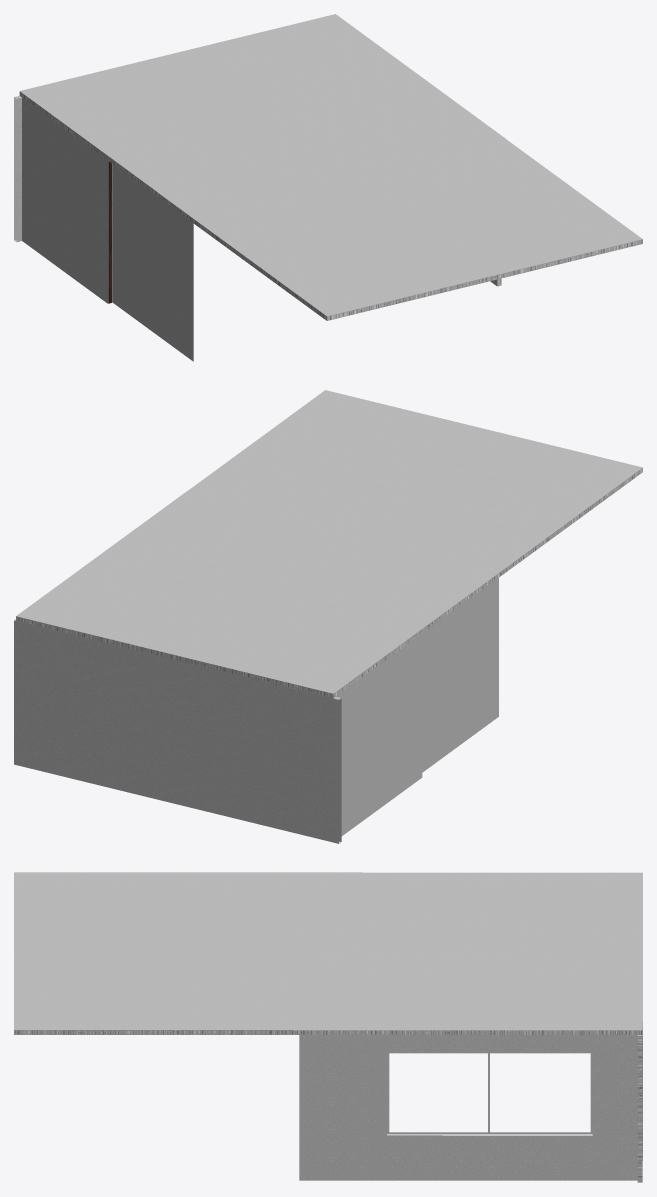
File: paredes.glb
3 renders of one model, top to bottom at view 1: azimuth 30°, elevation 25°; view 2: azimuth 150°, elevation 25°; view 3: azimuth 270°, elevation 25°, orthographic. The views are drawn at different scales.
Parts seen in each view (by area): view 1: Suelo_TileTexture_0.004, Pared6_BrownWoodTexture_0.003, Pared6_BrownWoodTexture_0.004; view 2: Suelo_TileTexture_0.004, Pared6_BrownWoodTexture_0.004, Pared6_BrownWoodTexture_0.003; view 3: Suelo_TileTexture_0.004, Pared6_BrownWoodTexture_0.066, Pared6_BrownWoodTexture_0.004.
Boxes of the visible parts, box(x1,y1,x2,y2) form: Suelo_TileTexture_0.004: box(19, 14, 642, 320); Pared6_BrownWoodTexture_0.003: box(22, 98, 193, 361); Pared6_BrownWoodTexture_0.004: box(14, 96, 21, 242); Suelo_TileTexture_0.004: box(16, 390, 642, 698); Pared6_BrownWoodTexture_0.004: box(14, 619, 341, 843); Pared6_BrownWoodTexture_0.003: box(336, 578, 498, 835); Suelo_TileTexture_0.004: box(14, 872, 642, 1034); Pared6_BrownWoodTexture_0.066: box(299, 1035, 637, 1180); Pared6_BrownWoodTexture_0.004: box(637, 1026, 642, 1182).
Bounding box in the file's own units: 34.68 × 15.17 × 57.14.
4 materials, 3 textured.
